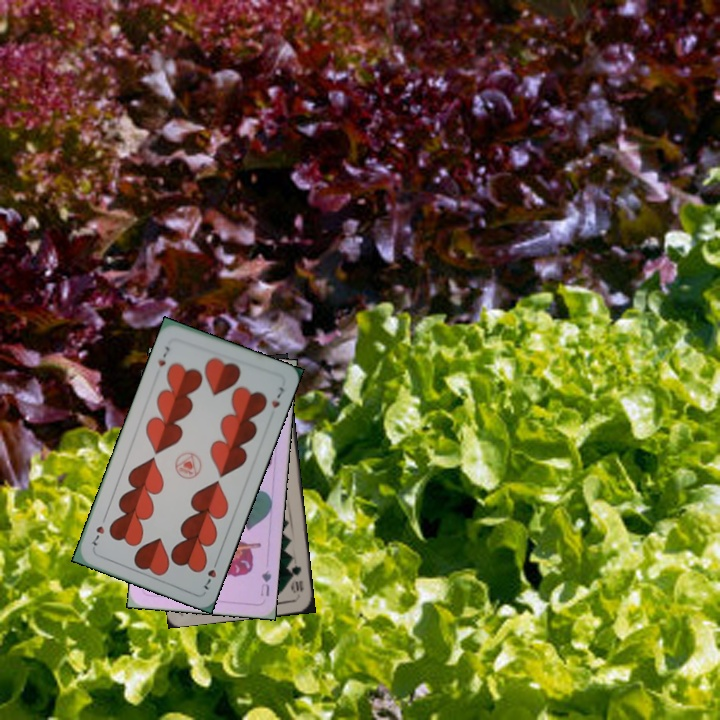G10: (287, 561, 306, 595)
GU: (256, 566, 274, 599)
H7: (200, 555, 221, 593), (154, 342, 172, 369)
